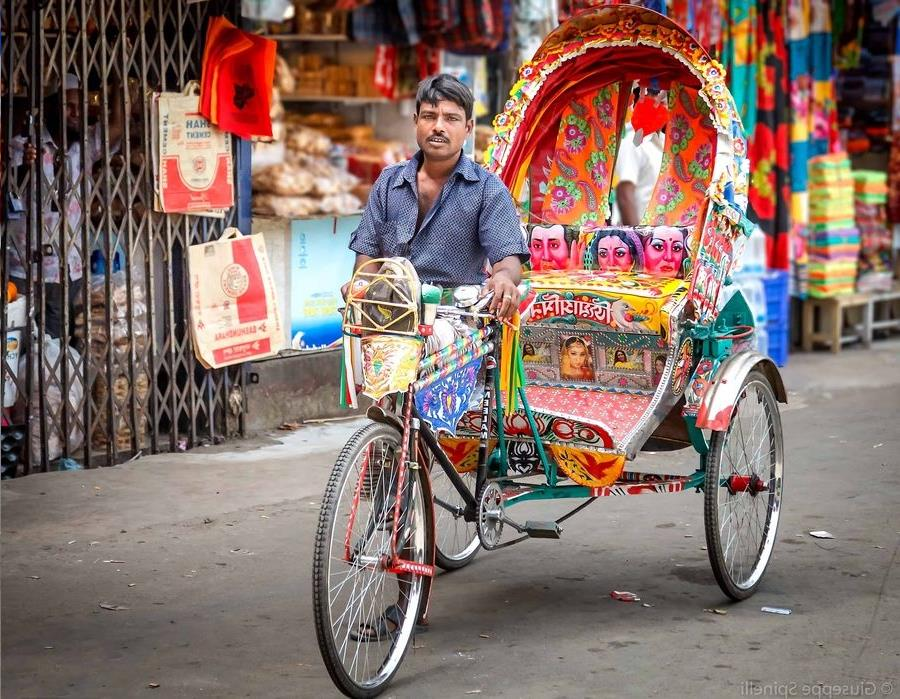Rickshaw: (283, 6, 789, 592)
